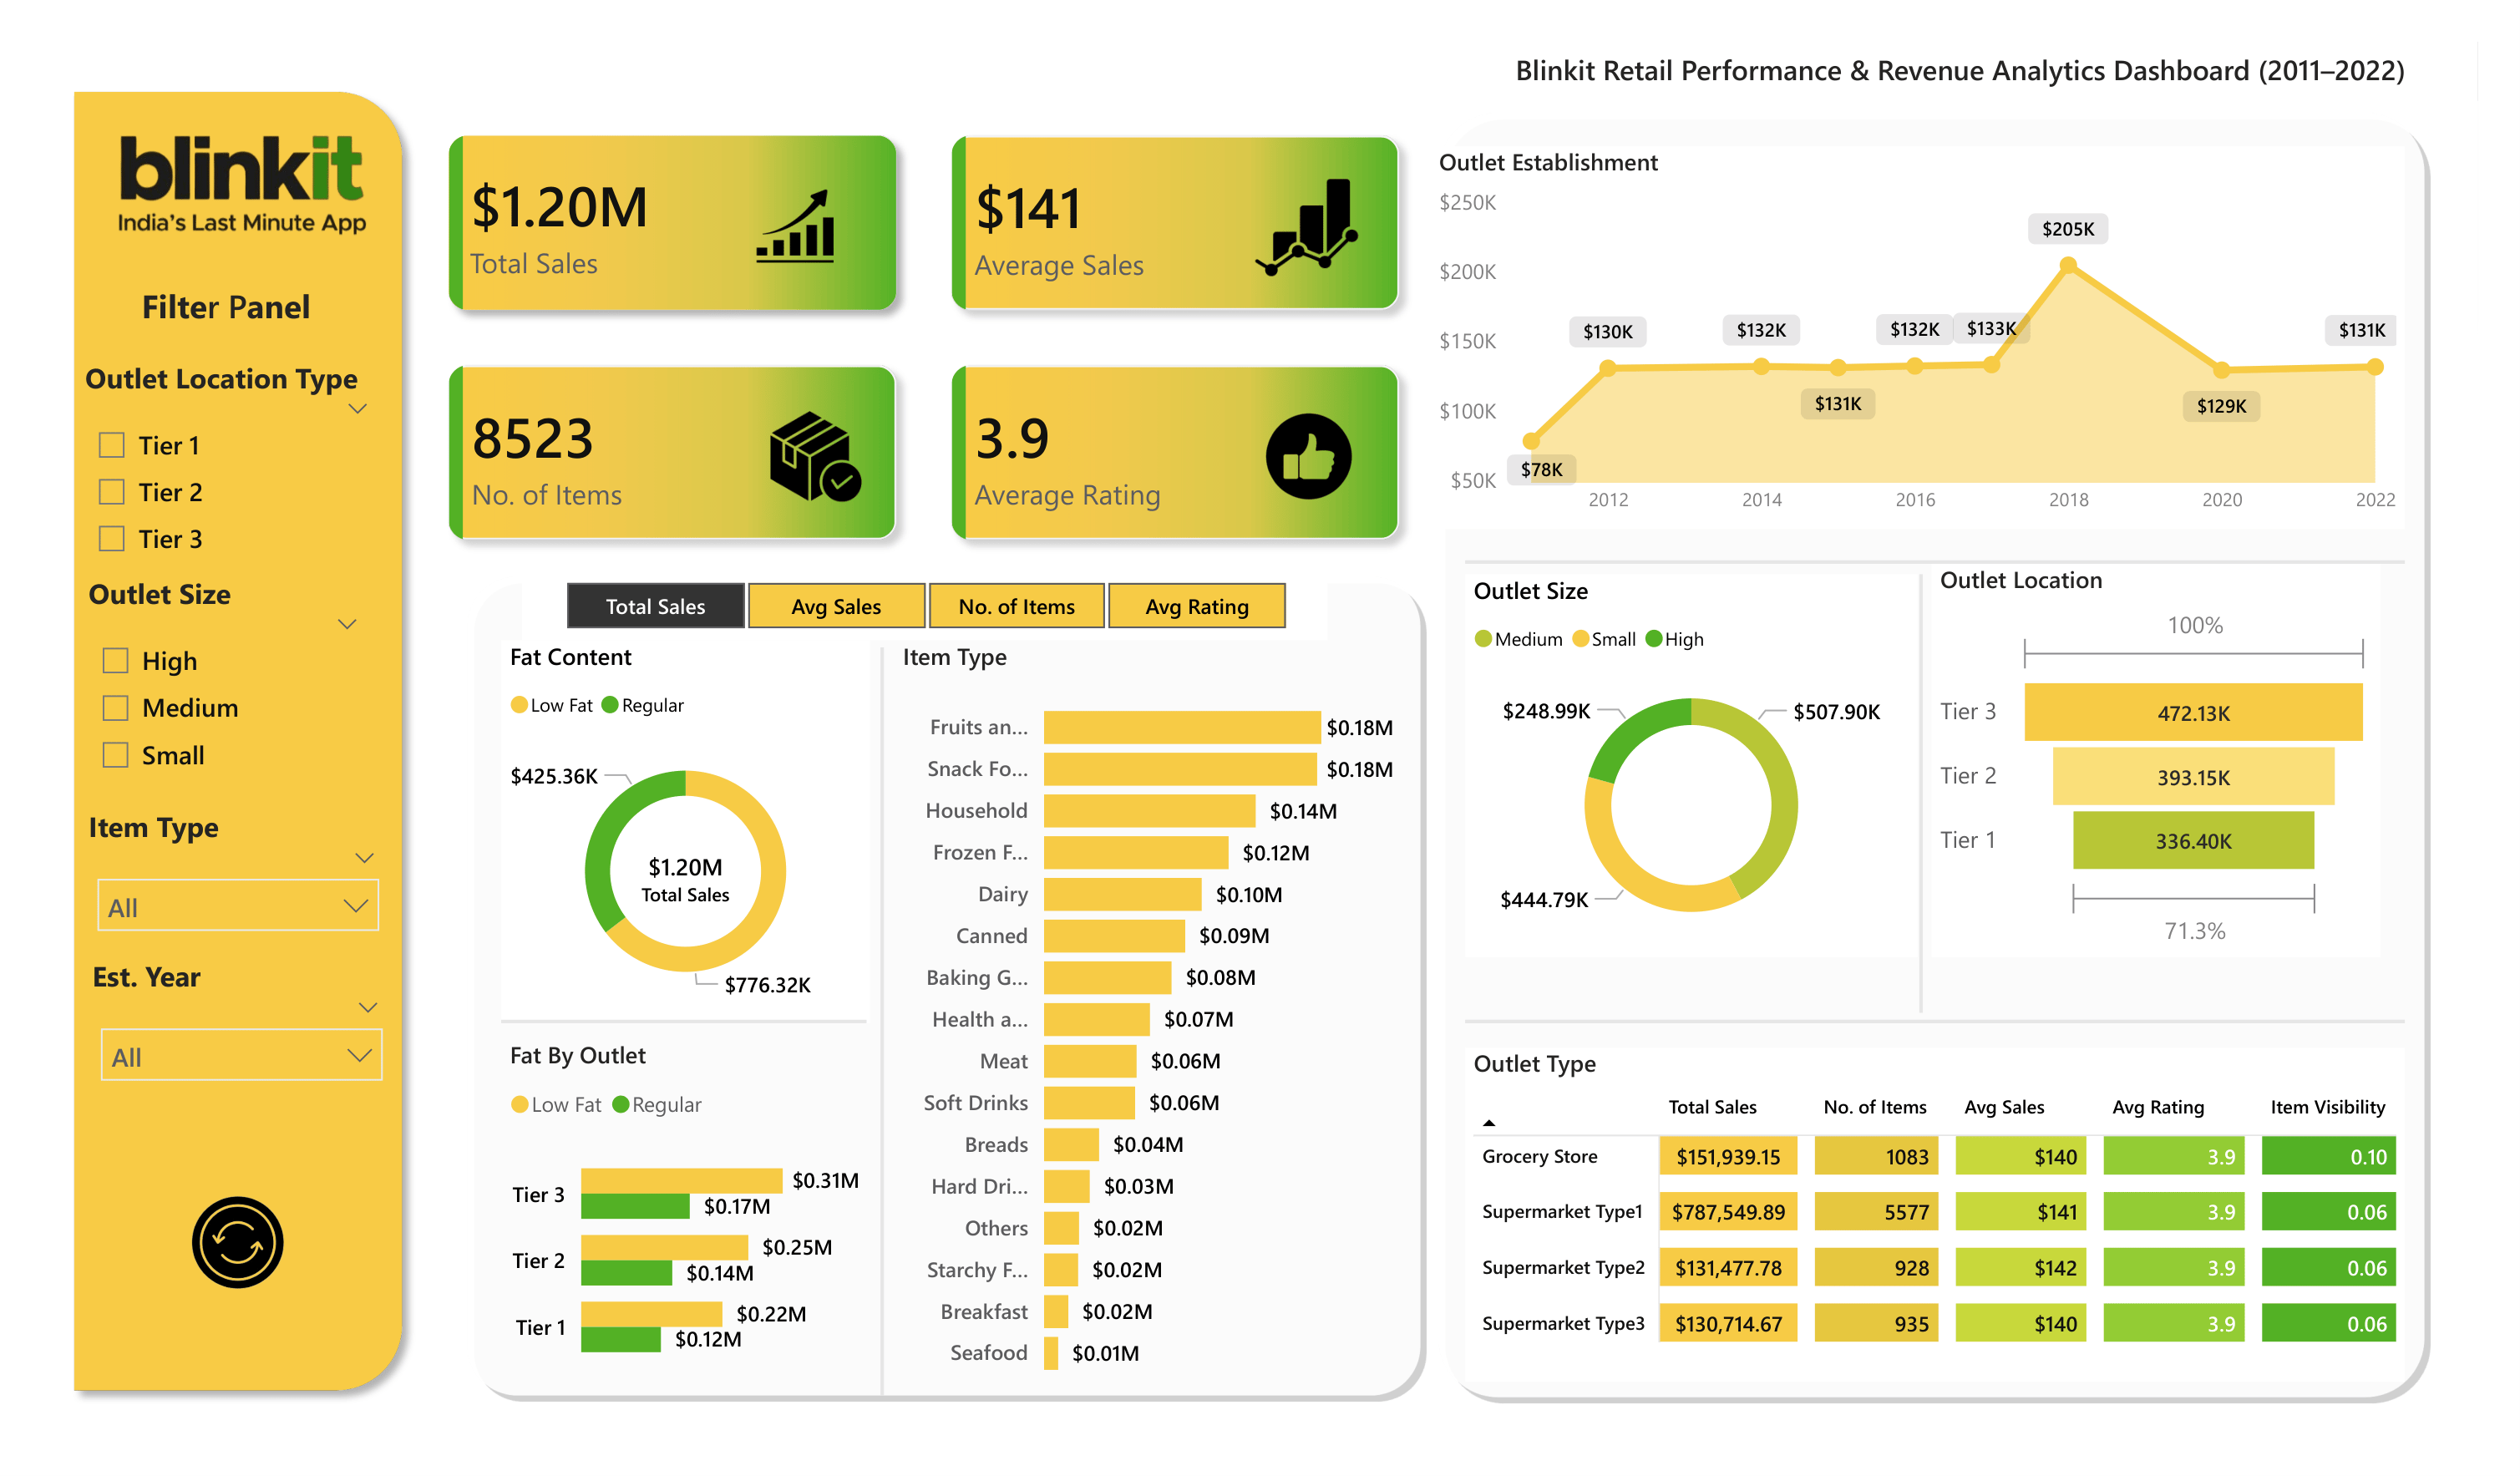

This screenshot's page, from the dashboard's own definition file:
{"tool":"powerbi","page":{"name":"Page 1","canvas":[1400,800],"ordinal":0},"visuals":[{"type":"shape","box":[10,20,206,764],"z":0},{"type":"cardVisual","fields":{"Data":["BlinkIT Grocery Data xlsx.Total Sales","BlinkIT Grocery Data xlsx.Avg Sales","BlinkIT Grocery Data xlsx.No. of Items","BlinkIT Grocery Data xlsx.Avg Rating"]},"box":[216.7,36.7,580,266.7],"z":1000},{"type":"image","box":[691,203,75,72],"z":2000},{"type":"image","box":[690,75,75,62.5],"z":3000},{"type":"image","box":[406,75,53,63],"z":4000},{"type":"image","box":[24,36,182,98],"z":5000},{"type":"image","box":[414,203,62,72],"z":6000},{"type":"shape","box":[240,303.3,556.7,480],"z":7000},{"type":"donutChart","title":"Fat Content","fields":{"Y":["BlinkIT Grocery Data xlsx.Total Sales"],"Category":["BlinkIT Grocery Data xlsx.Item Fat Content"]},"box":[264,344,212,220],"z":8000},{"type":"slicer","fields":{"Values":["Metrics.Metrics"]},"box":[275.7,304.3,462.9,40],"z":9000},{"type":"cardVisual","title":"Total Sales","fields":{"Data":["BlinkIT Grocery Data xlsx.Total Sales"]},"box":[307.1,432.9,125.7,94.3],"z":10000},{"type":"clusteredBarChart","title":"Fat By Outlet","fields":{"Y":["BlinkIT Grocery Data xlsx.Total Sales"],"Series":["BlinkIT Grocery Data xlsx.Item Fat Content"],"Category":["BlinkIT Grocery Data xlsx.Outlet Location Type"]},"box":[263.8,572.5,211.2,202.5],"z":11000},{"type":"shape","box":[263.8,552.5,210,20],"z":12000},{"type":"shape","box":[476,348,14,430],"z":13000},{"type":"barChart","title":"Item Type","fields":{"Y":["BlinkIT Grocery Data xlsx.Total Sales"],"Category":["BlinkIT Grocery Data xlsx.Item Type"]},"box":[490,344,292,434],"z":14000},{"type":"shape","box":[798,36,576,748],"z":15000},{"type":"lineChart","title":"Outlet Establishment","fields":{"Category":["BlinkIT Grocery Data xlsx.Outlet Establishment Year"],"Y":["BlinkIT Grocery Data xlsx.Total Sales"]},"box":[798,60,560,220],"z":16000},{"type":"shape","box":[818,294,540,10],"z":17000},{"type":"donutChart","title":"Outlet Size","fields":{"Y":["BlinkIT Grocery Data xlsx.Total Sales"],"Category":["BlinkIT Grocery Data xlsx.Outlet Size"]},"box":[818,306,260,220],"z":18000},{"type":"shape","box":[1074,306,12,252],"z":19000},{"type":"funnel","title":"Outlet Location","fields":{"Y":["Sum(BlinkIT Grocery Data xlsx.Sales)"],"Category":["BlinkIT Grocery Data xlsx.Outlet Location Type"]},"box":[1086,300,258,226],"z":20000},{"type":"shape","box":[818,558,540,10],"z":21000},{"type":"pivotTable","title":"Outlet Type","fields":{"Rows":["BlinkIT Grocery Data xlsx.Outlet Type"],"Values":["BlinkIT Grocery Data xlsx.Total Sales","BlinkIT Grocery Data xlsx.No. of Items","BlinkIT Grocery Data xlsx.Avg Sales","BlinkIT Grocery Data xlsx.Avg Rating","Avg(BlinkIT Grocery Data xlsx.Item Visibility)"]},"box":[818,578,540,192],"z":22000},{"type":"slicer","title":"Outlet Location Type","fields":{"Values":["BlinkIT Grocery Data xlsx.Outlet Location Type"]},"box":[20,182,180,124],"z":23000},{"type":"slicer","title":"Outlet Size","fields":{"Values":["BlinkIT Grocery Data xlsx.Outlet Size"]},"box":[22,306,172,140],"z":24000},{"type":"slicer","title":"Item Type","fields":{"Values":["BlinkIT Grocery Data xlsx.Item Type"]},"box":[22,440,182,86],"z":25000},{"type":"textbox","box":[20,134,172,36],"z":26000},{"type":"slicer","title":"Est. Year","fields":{"Values":["BlinkIT Grocery Data xlsx.Outlet Establishment Year"]},"box":[24,526,182,88],"z":27000},{"type":"textbox","box":[842,0,532,36],"z":29000},{"type":"image","box":[44.2,655.1,139,75.8],"z":29001}]}

Visuals, with their boxes in screenshot pixels (x1, y1, x2, y2):
shape: x1=59 y1=77 x2=418 y2=1407
cardVisual - BlinkIT Grocery Data xlsx.Total Sales x BlinkIT Grocery Data xlsx.Avg Sales: x1=419 y1=105 x2=1428 y2=570
image: x1=1245 y1=395 x2=1375 y2=520
image: x1=1243 y1=172 x2=1373 y2=282
image: x1=748 y1=172 x2=840 y2=282
image: x1=84 y1=104 x2=400 y2=275
image: x1=763 y1=395 x2=870 y2=520
shape: x1=459 y1=570 x2=1428 y2=1405
"Fat Content" donutChart: x1=501 y1=641 x2=870 y2=1023
slicer - Metrics.Metrics: x1=521 y1=571 x2=1327 y2=641
"Total Sales" cardVisual: x1=576 y1=795 x2=795 y2=960
"Fat By Outlet" clusteredBarChart: x1=501 y1=1038 x2=869 y2=1391
shape: x1=501 y1=1003 x2=866 y2=1038
shape: x1=870 y1=647 x2=895 y2=1396
"Item Type" barChart: x1=895 y1=641 x2=1402 y2=1396
shape: x1=1431 y1=104 x2=2433 y2=1407
"Outlet Establishment" lineChart: x1=1431 y1=146 x2=2405 y2=529
shape: x1=1465 y1=554 x2=2405 y2=571
"Outlet Size" donutChart: x1=1465 y1=575 x2=1918 y2=957
shape: x1=1911 y1=575 x2=1932 y2=1013
"Outlet Location" funnel: x1=1932 y1=564 x2=2381 y2=957
shape: x1=1465 y1=1013 x2=2405 y2=1031
"Outlet Type" pivotTable: x1=1465 y1=1047 x2=2405 y2=1382
"Outlet Location Type" slicer: x1=77 y1=358 x2=390 y2=575
"Outlet Size" slicer: x1=80 y1=575 x2=379 y2=818
"Item Type" slicer: x1=80 y1=808 x2=397 y2=957
textbox: x1=77 y1=275 x2=376 y2=337
"Est. Year" slicer: x1=84 y1=957 x2=400 y2=1110
textbox: x1=1507 y1=42 x2=2433 y2=104
image: x1=119 y1=1182 x2=361 y2=1314
